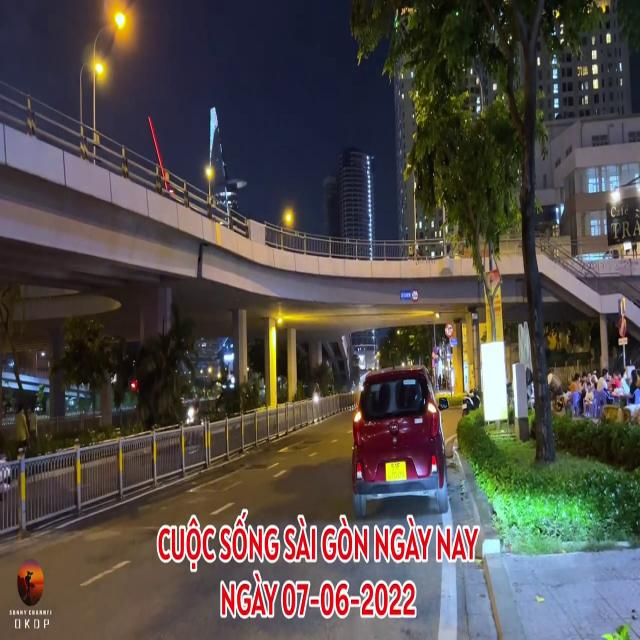bien_vang: (381, 460, 410, 486)
